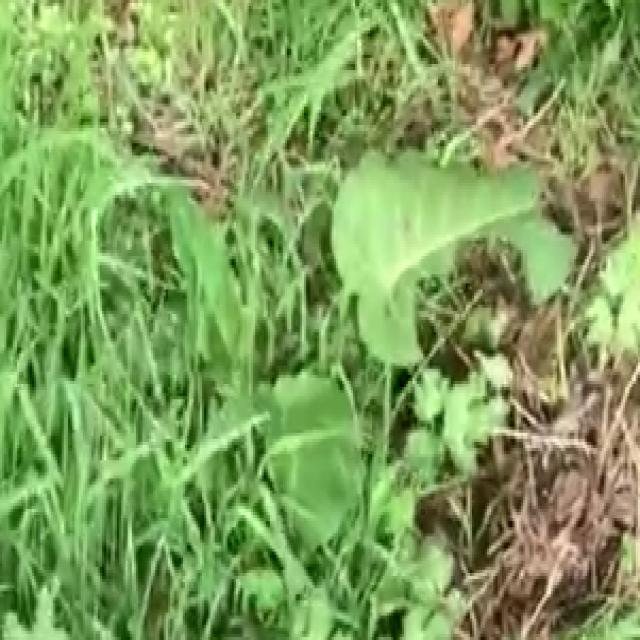organic waste: (140, 119, 600, 600)
